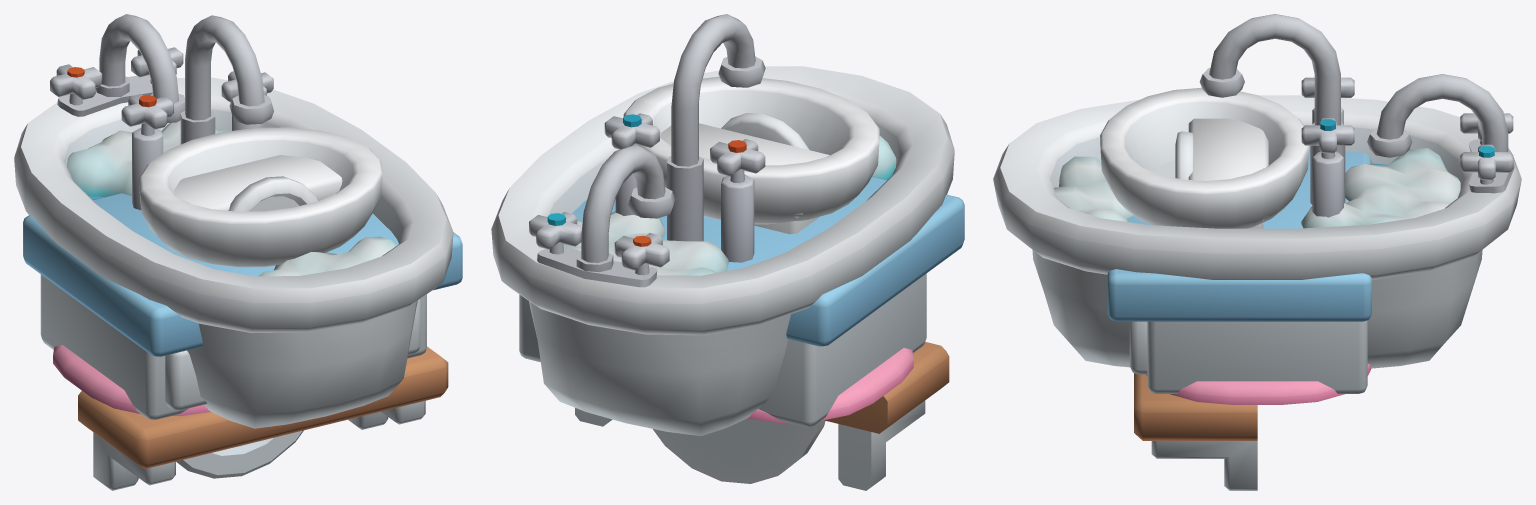
The model's file is bathroom-collection.glb.
The picture shows the model from 3 angles, left to right: view 1: azimuth 30°, elevation 25°; view 2: azimuth 150°, elevation 25°; view 3: azimuth 270°, elevation 25°; orthographic projection. The views are drawn at different scales.
Parts seen in each view (by area): view 1: bath, cabinet_bathroom, wall_shelf, bath_water, toilet, mirror, mat, toilet_lid; view 2: bath, cabinet_bathroom, wall_shelf, mirror, bath_water, mat, toilet, toilet_lid; view 3: bath, cabinet_bathroom, bath_water, wall_shelf, toilet, mat, toilet_lid.
Part boxes in pixels (x1,y1,x2,y2): bath: (14, 14, 453, 428); cabinet_bathroom: (23, 15, 462, 419); wall_shelf: (78, 346, 448, 490); bath_water: (66, 120, 397, 276); toilet: (174, 155, 342, 210); mirror: (176, 430, 303, 478); mat: (53, 345, 210, 416); toilet_lid: (228, 176, 317, 211); bath: (491, 66, 954, 435); cabinet_bathroom: (519, 14, 964, 426); wall_shelf: (575, 342, 949, 490); mirror: (653, 418, 825, 483); bath_water: (563, 136, 896, 275); mat: (747, 348, 913, 422); toilet: (660, 123, 829, 234); toilet_lid: (721, 113, 809, 150); bath: (993, 74, 1521, 368); cabinet_bathroom: (1100, 14, 1371, 393); bath_water: (1053, 148, 1460, 228); wall_shelf: (1134, 373, 1257, 490); toilet: (1188, 118, 1268, 228); mat: (1146, 364, 1370, 404); toilet_lid: (1175, 131, 1193, 179).
Bounding box in the file's own units: 2 × 2.73 × 3.
Materials: 1 (1 with a texture image).
